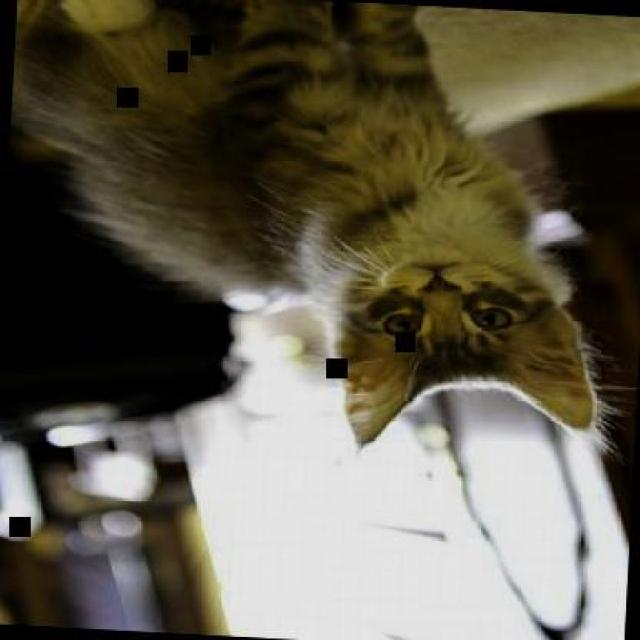cat: (0, 0, 626, 458)
